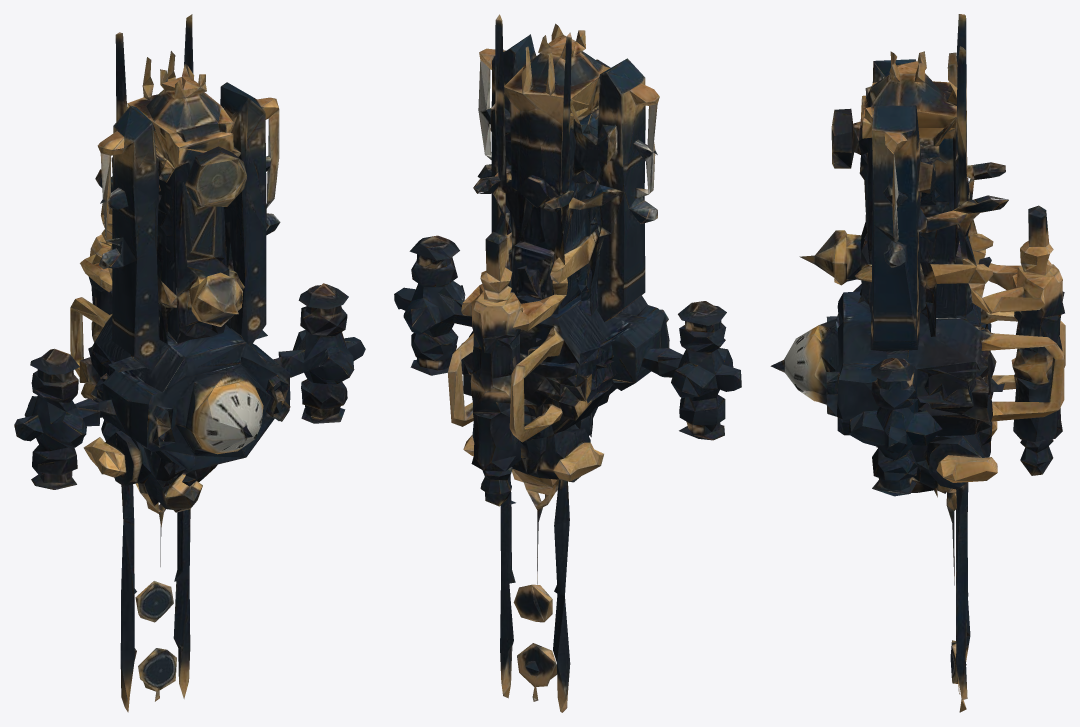
The model's file is nation-w-fortress.glb.
3 renders of one model, left to right at view 1: azimuth 30°, elevation 25°; view 2: azimuth 150°, elevation 25°; view 3: azimuth 270°, elevation 25°, orthographic.
Bounding box in the file's own units: 1 × 1.89 × 0.7551.
1 material, 1 textured.
